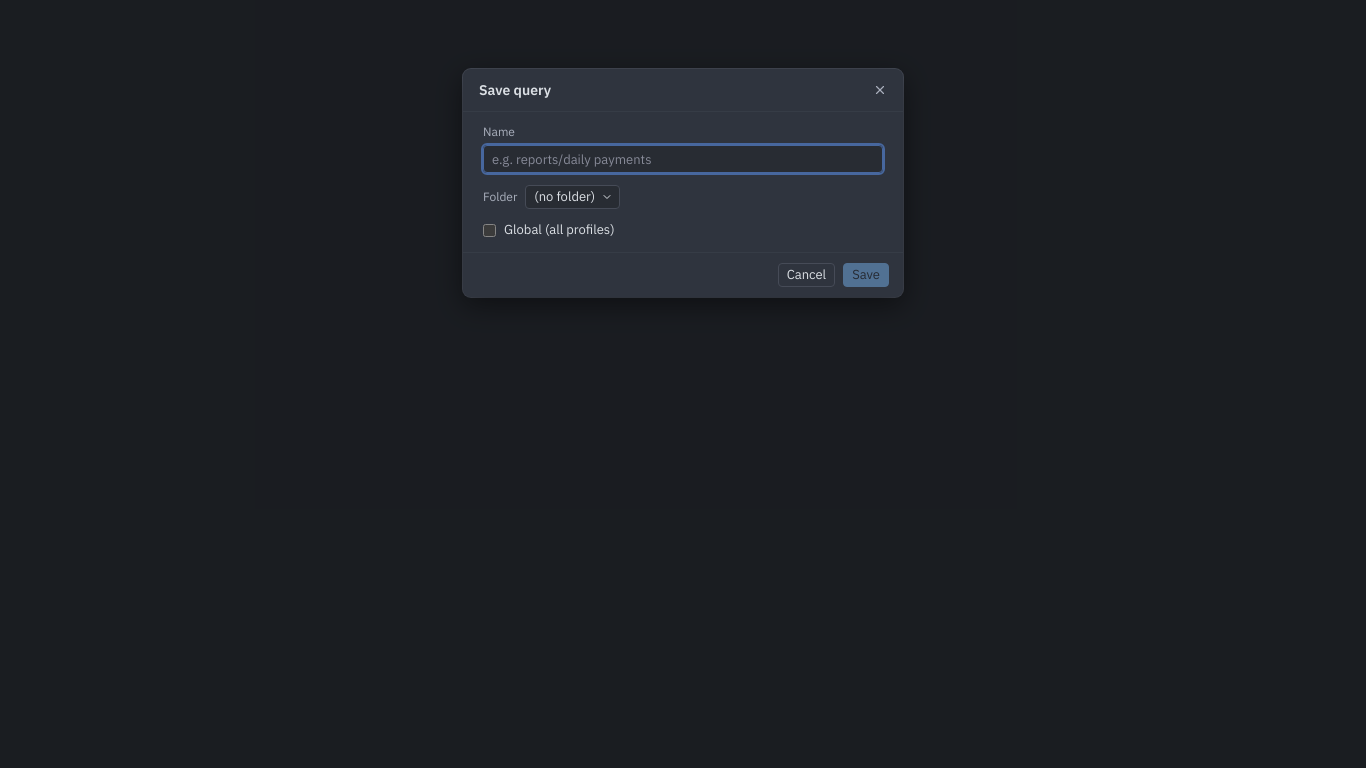
Scenario: SaveQueryDialog › shows a server invalid_name reason
Type "fresh" into the field labelled "Name" at (683, 159), box [483,145,883,173]
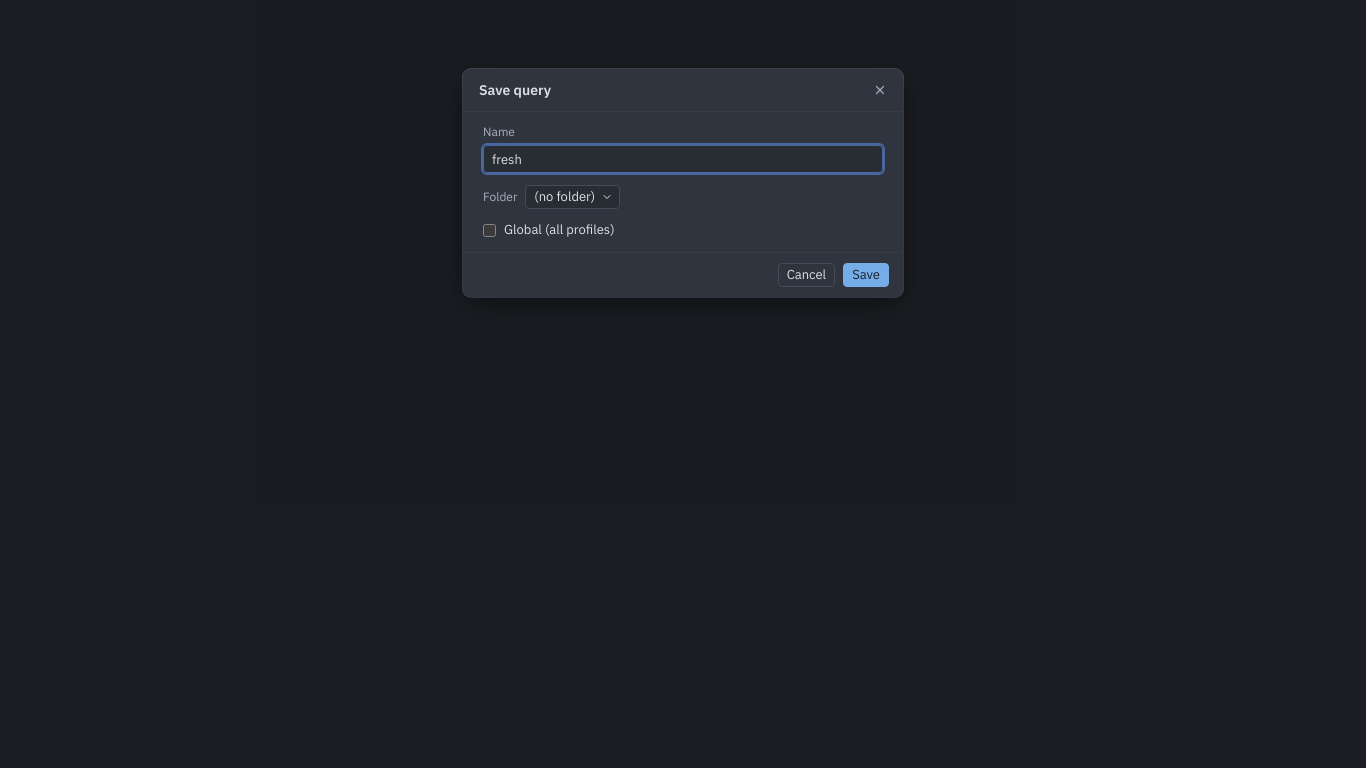
Click the button "Save" at (866, 275), box [843,263,889,287]
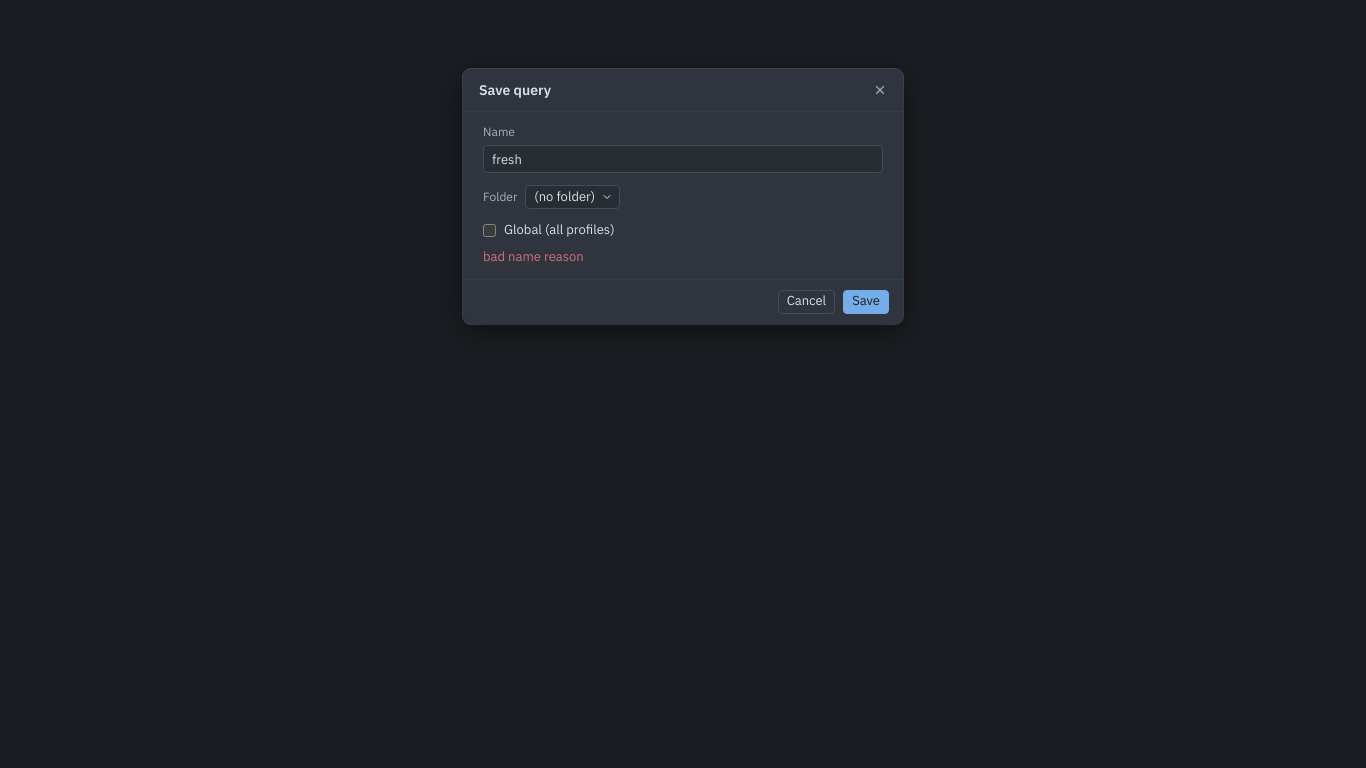
expect the message reads "bad name reason": met, box [483,248,584,265]
